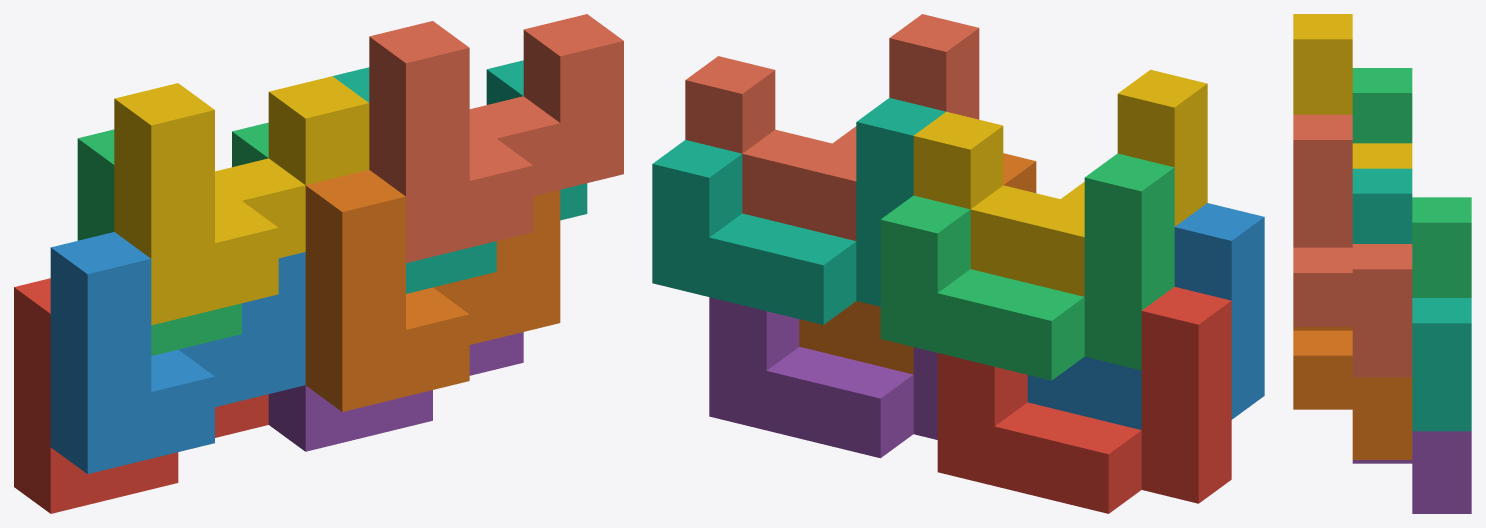
Rendered from tiling.obj.
3 renders of one model, left to right at view 1: azimuth 30°, elevation 25°; view 2: azimuth 150°, elevation 25°; view 3: azimuth 270°, elevation 25°, orthographic. The views are drawn at different scales.
Parts seen in each view (by area): view 1: copy_1_domain_8, copy_1_domain_4, copy_1_domain_2, copy_1_domain_6, copy_1_domain_1, copy_1_domain_5, copy_1_domain_3, copy_1_domain_7; view 2: copy_1_domain_3, copy_1_domain_1, copy_1_domain_7, copy_1_domain_4, copy_1_domain_8, copy_1_domain_5, copy_1_domain_2, copy_1_domain_6; view 3: copy_1_domain_8, copy_1_domain_7, copy_1_domain_3, copy_1_domain_6, copy_1_domain_4, copy_1_domain_5.
Part boxes in pixels (x1,y1,x2,y2): copy_1_domain_8: (369, 14, 623, 262); copy_1_domain_4: (114, 76, 369, 325); copy_1_domain_2: (50, 232, 305, 474); copy_1_domain_6: (305, 170, 560, 411); copy_1_domain_1: (14, 278, 268, 513); copy_1_domain_5: (268, 332, 523, 451); copy_1_domain_3: (77, 122, 268, 355); copy_1_domain_7: (332, 60, 587, 293); copy_1_domain_3: (880, 153, 1174, 380); copy_1_domain_1: (937, 286, 1231, 513); copy_1_domain_7: (652, 98, 945, 324); copy_1_domain_4: (913, 69, 1207, 296); copy_1_domain_8: (685, 14, 979, 240); copy_1_domain_5: (709, 297, 937, 458); copy_1_domain_2: (1027, 203, 1264, 429); copy_1_domain_6: (799, 153, 1036, 374); copy_1_domain_8: (1293, 114, 1412, 377); copy_1_domain_7: (1352, 168, 1471, 431); copy_1_domain_3: (1352, 68, 1471, 297); copy_1_domain_6: (1293, 327, 1412, 459); copy_1_domain_4: (1293, 14, 1412, 168); copy_1_domain_5: (1352, 431, 1471, 513).
Size of the model in its own units: 9 by 6 by 3.
